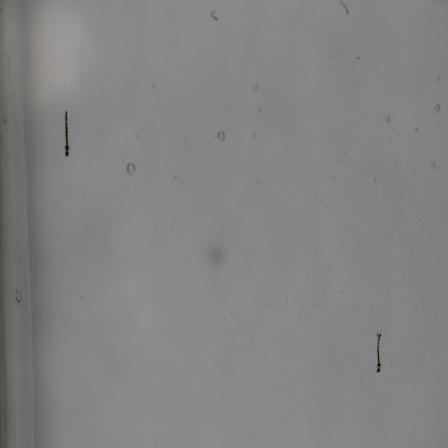Jentik-Nyamuk: (61, 107, 74, 160), (373, 329, 385, 378)
